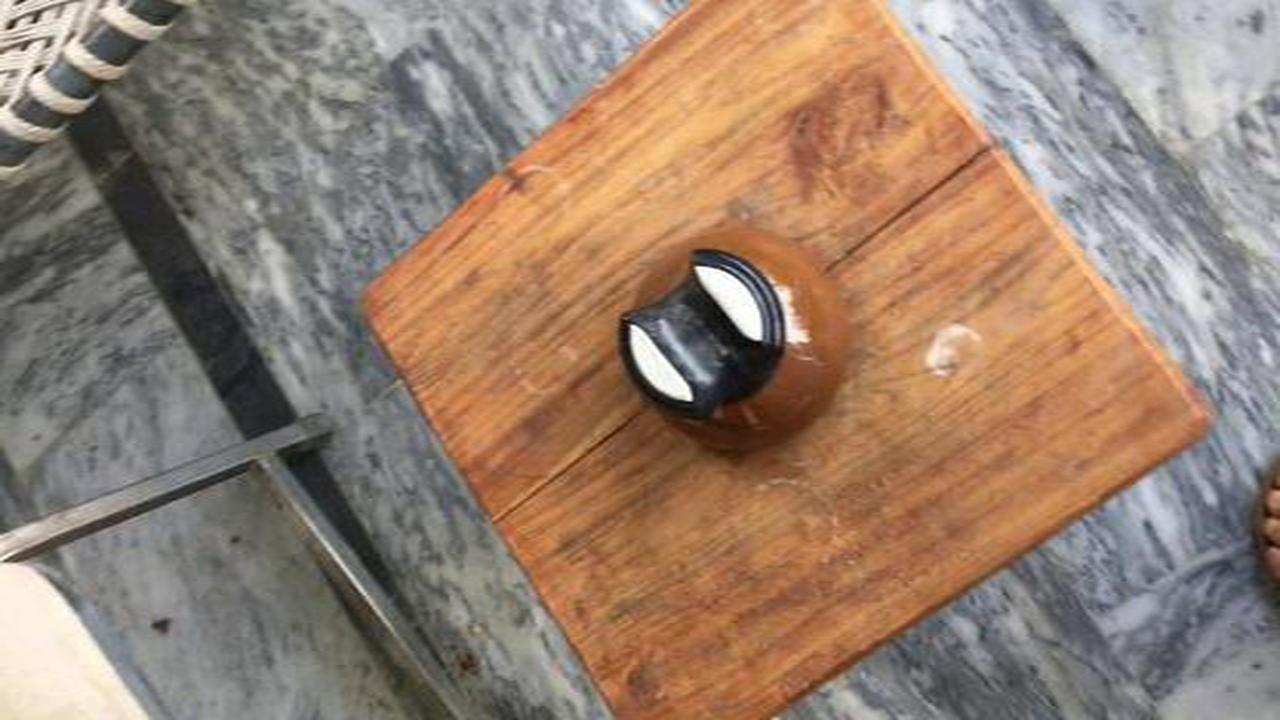insulator_pin: (601, 212, 868, 468)
